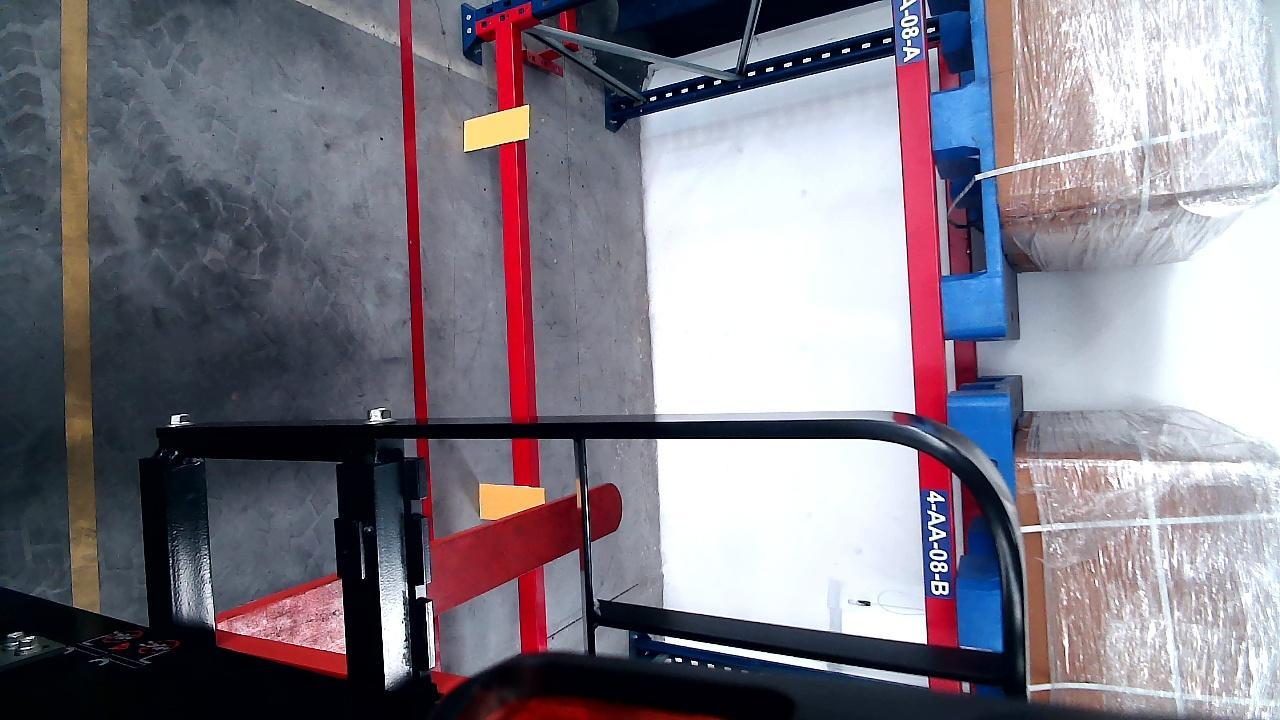red_line: (398, 0, 431, 424)
yellow_line: (59, 0, 98, 617)
